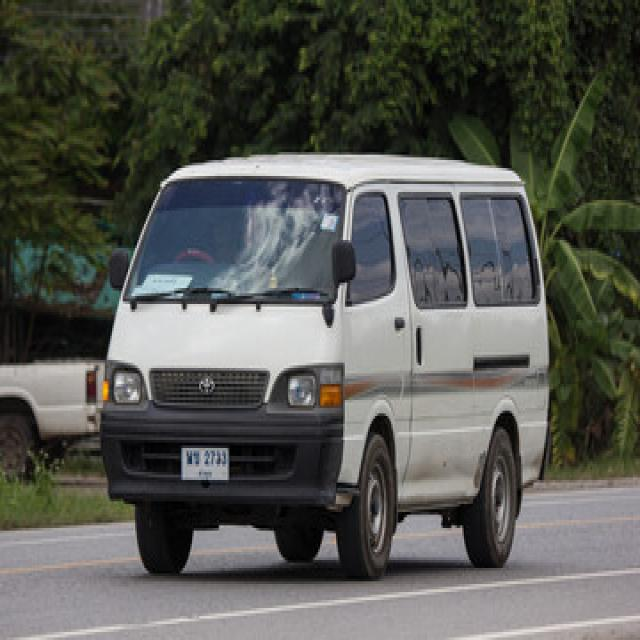van: (100, 155, 548, 576)
